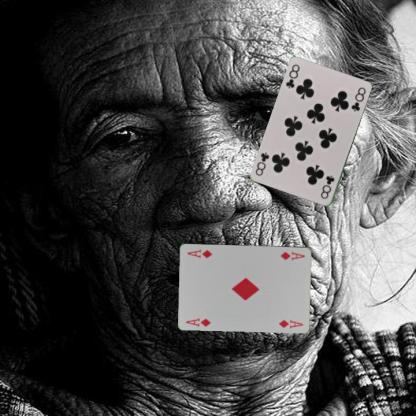8c: (283, 62, 301, 90), (318, 173, 336, 200)
Ad: (278, 249, 306, 261), (184, 315, 212, 327)
